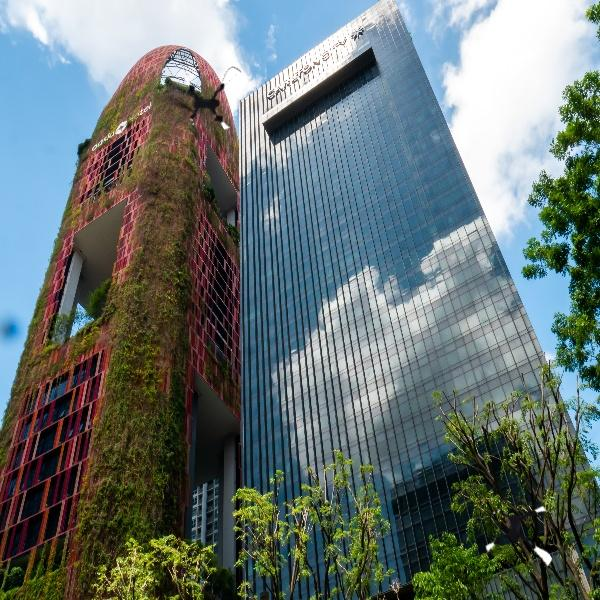drone: (481, 497, 565, 581), (177, 59, 255, 137)
